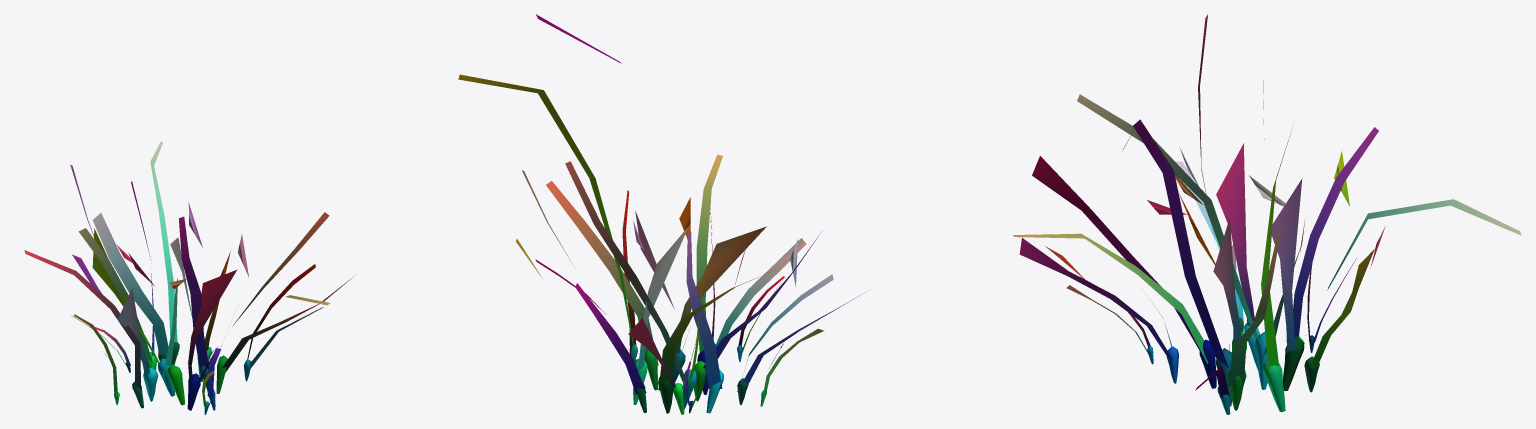
File: Ribbon_Grass_tbdpec3r_High_tbdpec3r_VarD_LOD1.glb
3 renders of one model, left to right at view 1: azimuth 30°, elevation 25°; view 2: azimuth 150°, elevation 25°; view 3: azimuth 270°, elevation 25°, orthographic. The views are drawn at different scales.
Parts seen in each view (by area): view 1: _a9b0_VarD_LOD2; view 2: _a9b0_VarD_LOD2; view 3: _a9b0_VarD_LOD2.
Boxes of the visible parts, x1,y1,x2,y2 form: _a9b0_VarD_LOD2: (24, 141, 353, 414); _a9b0_VarD_LOD2: (458, 14, 868, 414); _a9b0_VarD_LOD2: (1013, 14, 1521, 414).
Size of the model in its own units: 0.4361 by 0.3589 by 0.4785.
